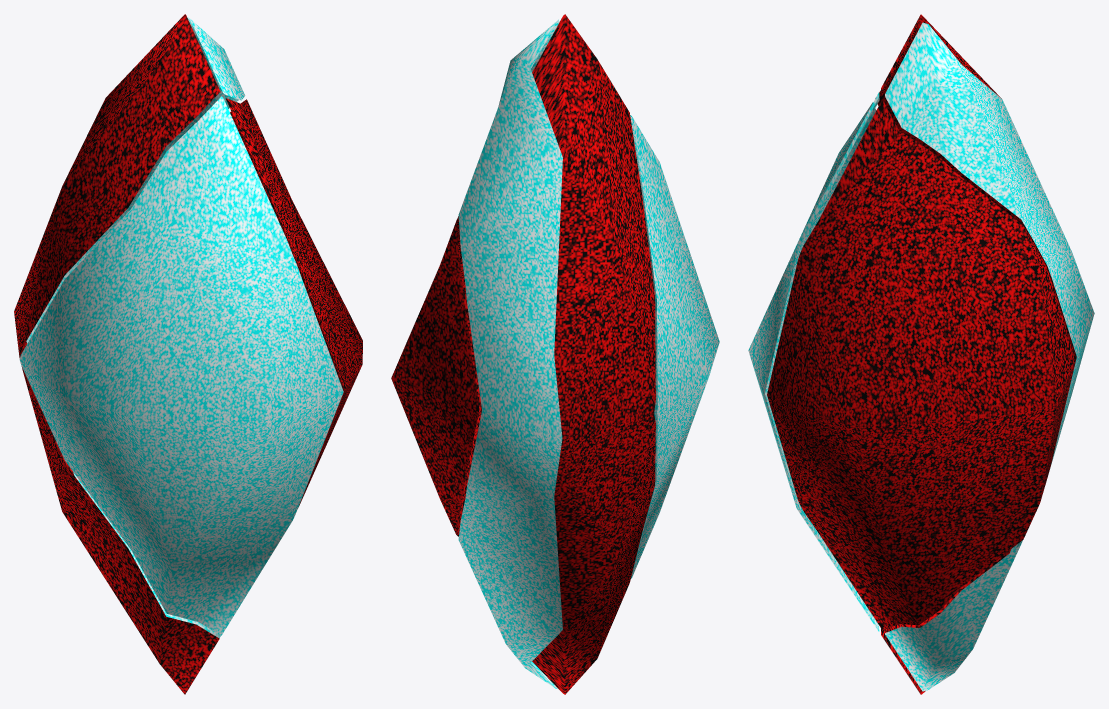
File: SM_Crystal_02_HJS.fbx
The picture shows the model from 3 angles, left to right: view 1: azimuth 30°, elevation 25°; view 2: azimuth 150°, elevation 25°; view 3: azimuth 270°, elevation 25°; orthographic projection.
Visible parts, largest first — view 1: SM_Crystal_02_HJS; view 2: SM_Crystal_02_HJS; view 3: SM_Crystal_02_HJS.
Part boxes in pixels (<box>): SM_Crystal_02_HJS: <box>14,14,362,694</box>; SM_Crystal_02_HJS: <box>391,14,719,694</box>; SM_Crystal_02_HJS: <box>748,14,1094,694</box>.
Bounding box in the file's own units: 25.92 × 60.65 × 27.95.
